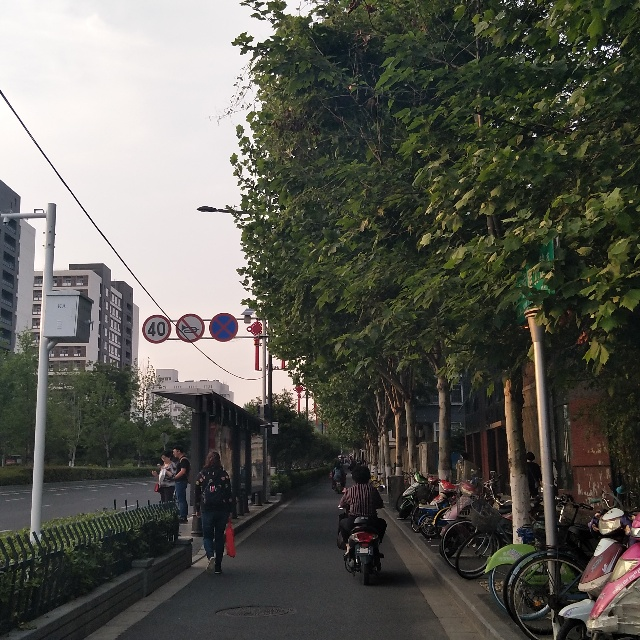nohonk: (178, 313, 199, 341)
stop: (210, 313, 238, 340)
